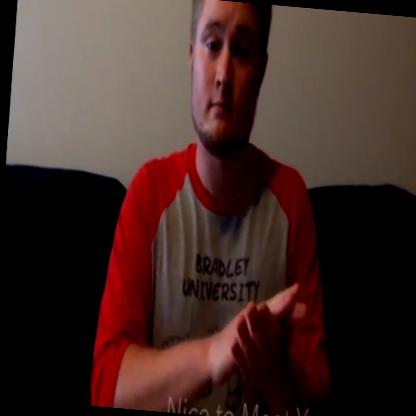NiceToMeetYou: (204, 244, 313, 398)
